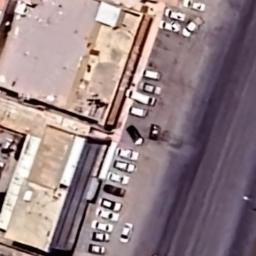pickup: (182, 16, 206, 40)
sedan: (124, 88, 158, 106), (95, 208, 121, 224), (137, 82, 163, 98), (111, 158, 136, 174), (99, 196, 123, 212), (88, 228, 110, 245), (159, 20, 182, 36), (90, 219, 114, 234), (116, 147, 140, 162), (163, 7, 185, 23), (120, 221, 134, 246), (106, 170, 130, 184), (104, 184, 126, 198), (184, 0, 208, 12), (87, 242, 107, 256), (149, 123, 161, 141)
van: (125, 124, 144, 146), (140, 68, 164, 80), (128, 106, 148, 119)
